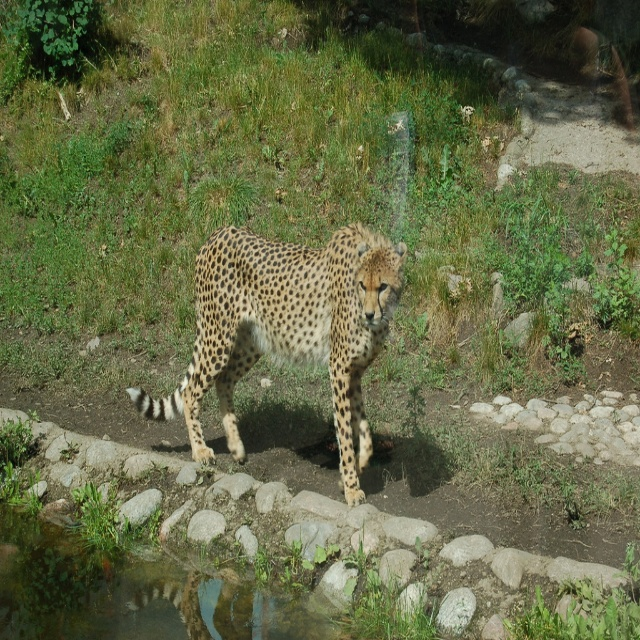Cheetah: (127, 217, 409, 509)
